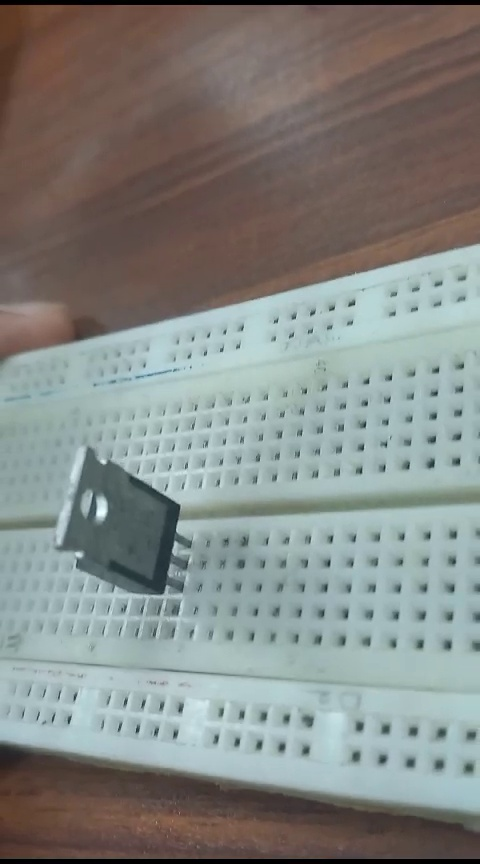voltage regulator: (42, 439, 196, 607)
